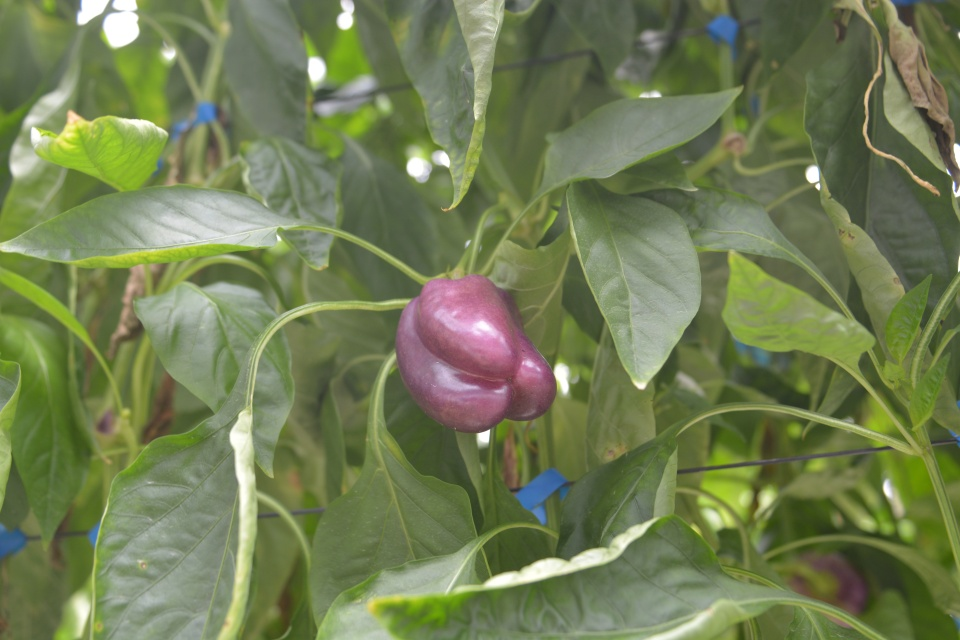fruit: (392, 272, 561, 436), (784, 547, 871, 631)
pedicle: (809, 568, 840, 599)
